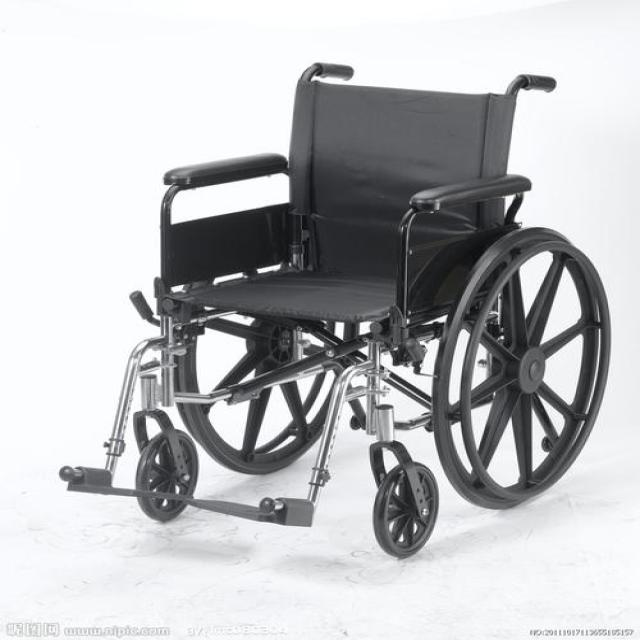wheelchairs: (56, 48, 617, 573)
